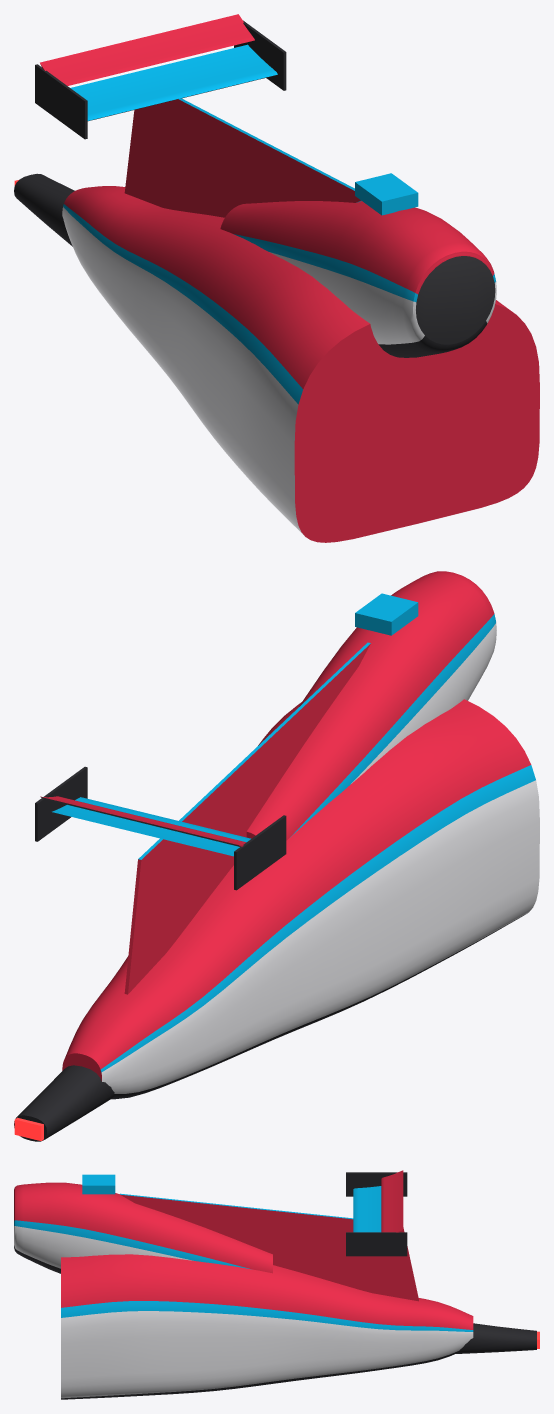
Rendered from twing.glb.
3 renders of one model, top to bottom at view 1: azimuth 30°, elevation 25°; view 2: azimuth 150°, elevation 25°; view 3: azimuth 270°, elevation 25°, orthographic. The views are drawn at different scales.
Parts seen in each view (by area): view 1: EngineCover_twing; view 2: EngineCover_twing; view 3: EngineCover_twing.
Part boxes in pixels (bbox=[...]): EngineCover_twing: bbox=[14, 14, 539, 542]; EngineCover_twing: bbox=[14, 571, 539, 1141]; EngineCover_twing: bbox=[14, 1170, 539, 1399].
Size of the model in its own units: 0.74 by 0.9064 by 2.23.
